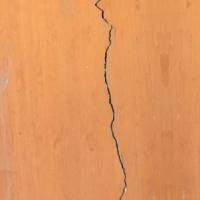crack: (78, 1, 137, 199)
